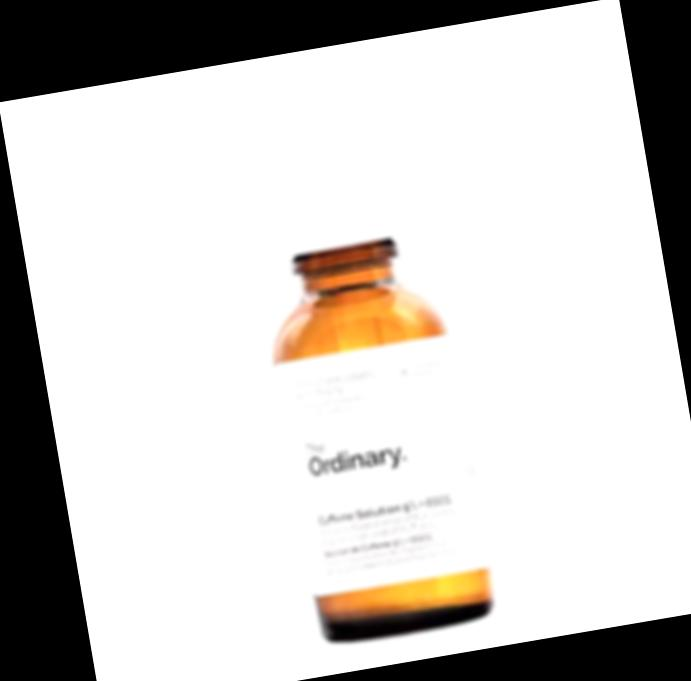cosmetic: (223, 60, 500, 644)
